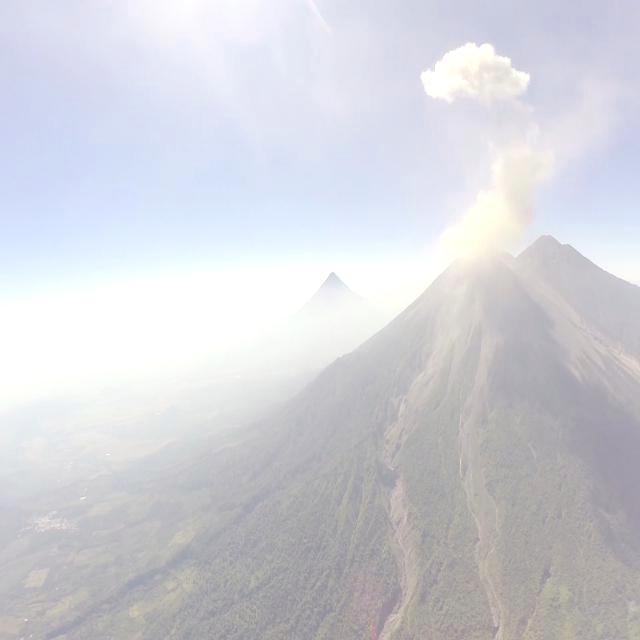Plume: (432, 118, 562, 264), (414, 36, 533, 114)
